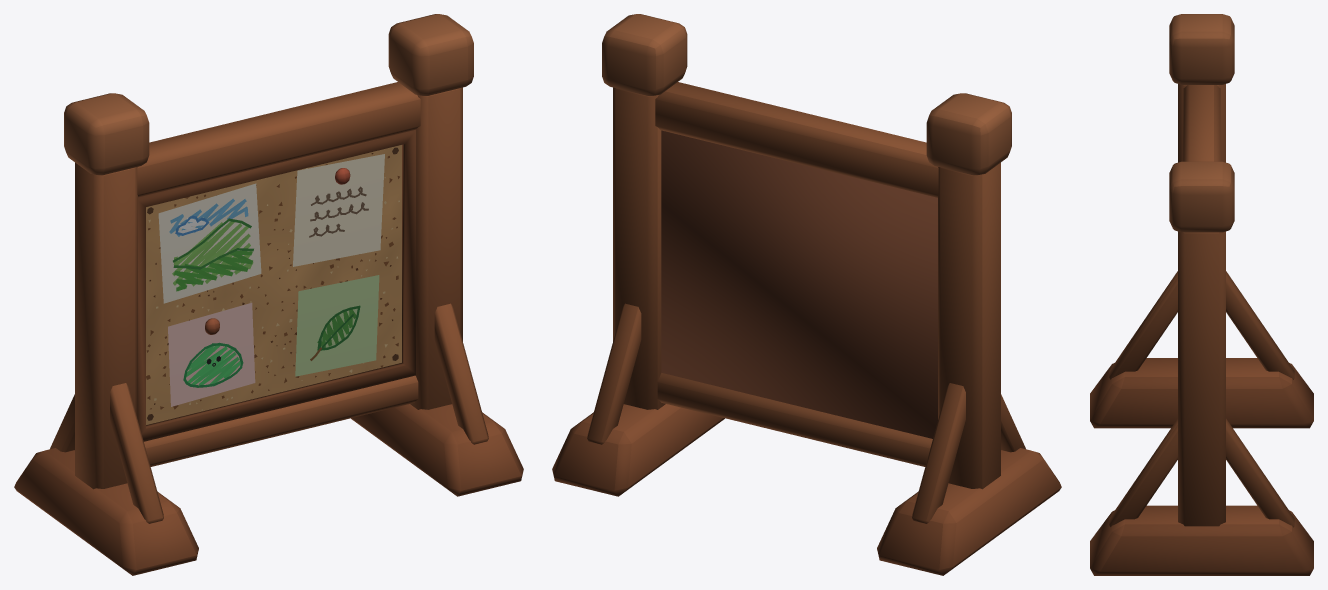
The model's file is Ville_Message_Board.glb.
The picture shows the model from 3 angles, left to right: view 1: azimuth 30°, elevation 25°; view 2: azimuth 150°, elevation 25°; view 3: azimuth 270°, elevation 25°; orthographic projection. The views are drawn at different scales.
Parts seen in each view (by area): view 1: Ville_Message_Board; view 2: Ville_Message_Board; view 3: Ville_Message_Board.
Boxes of the visible parts, left/top/right/bottom form: Ville_Message_Board: left=14, top=14, right=523, bottom=575; Ville_Message_Board: left=552, top=14, right=1061, bottom=575; Ville_Message_Board: left=1090, top=14, right=1313, bottom=575.
Bounding box in the file's own units: 2.52 × 2.52 × 1.31.
